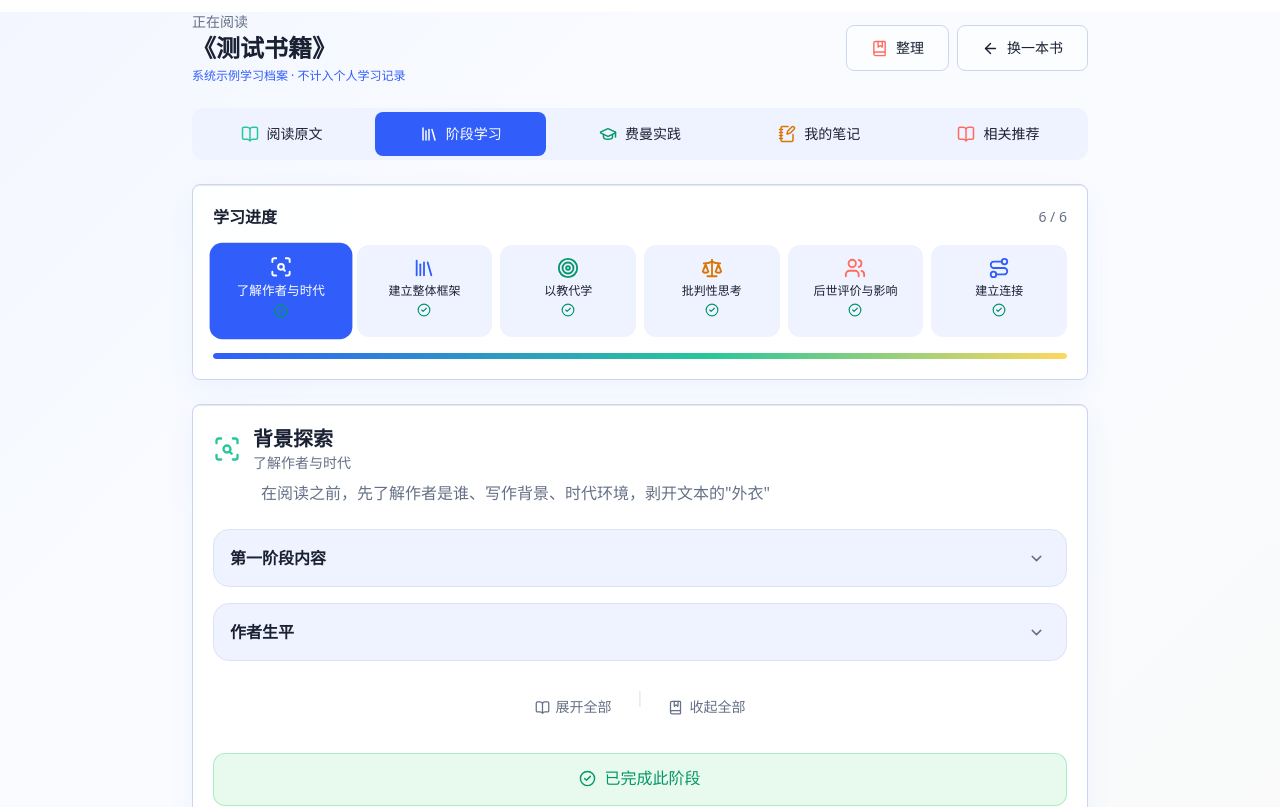
ReadingView navigation position › moves back to the reading workspace top when switching main tabs
Click the button "我的笔记". click: {"x": 819, "y": 134}
box: 734,112 -> 905,156
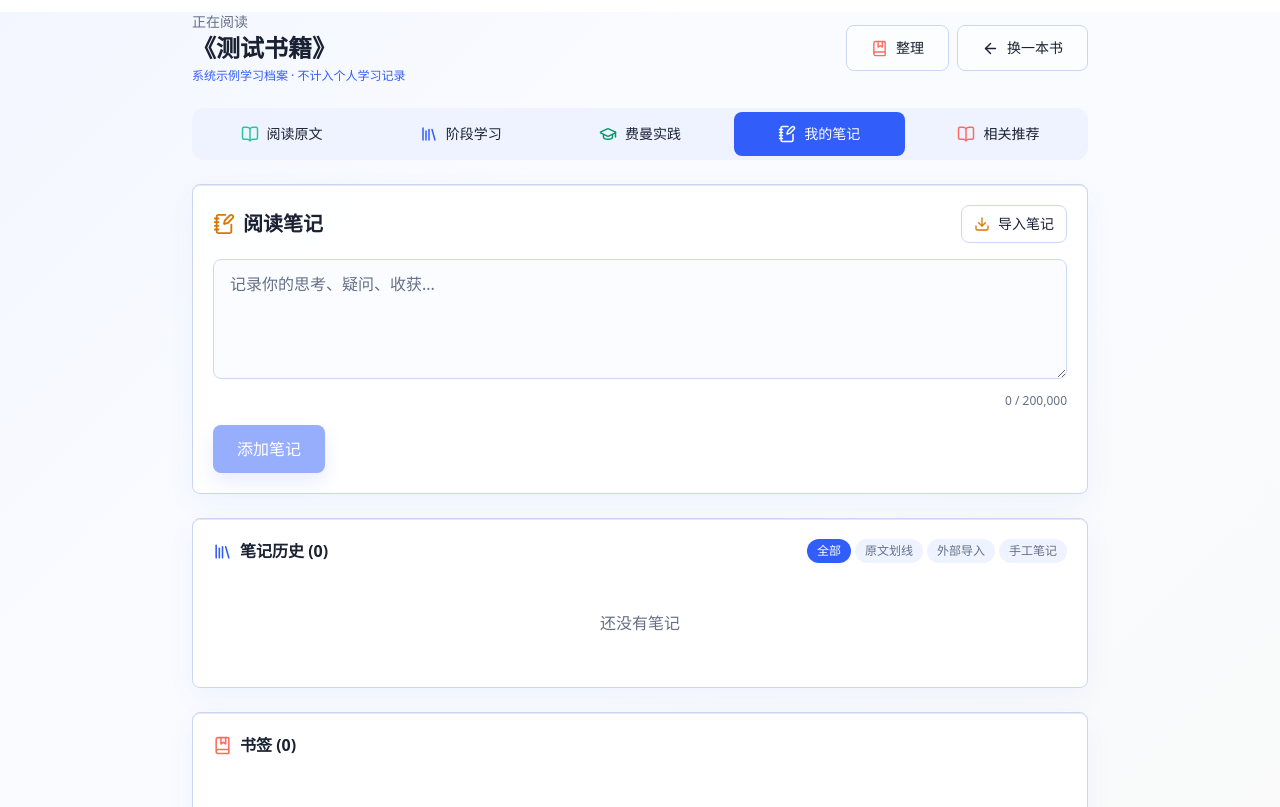
Check: the heading "阅读笔记" is shown, box 213,210 -> 323,238
